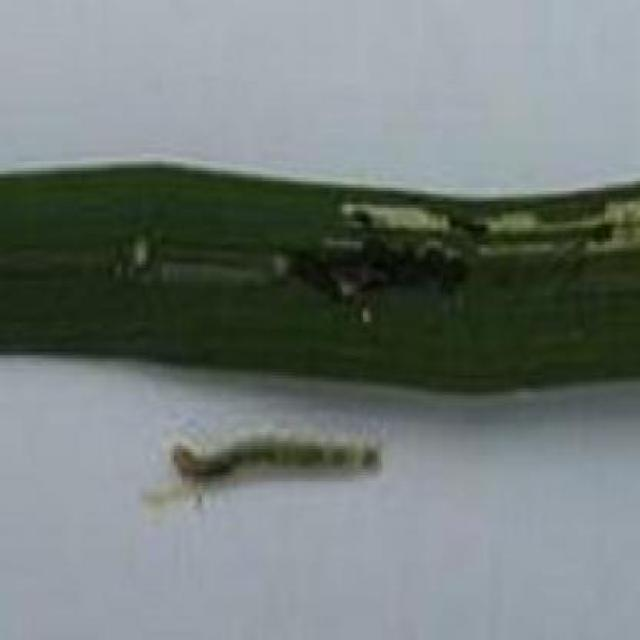leaf-folder: (147, 411, 390, 497)
